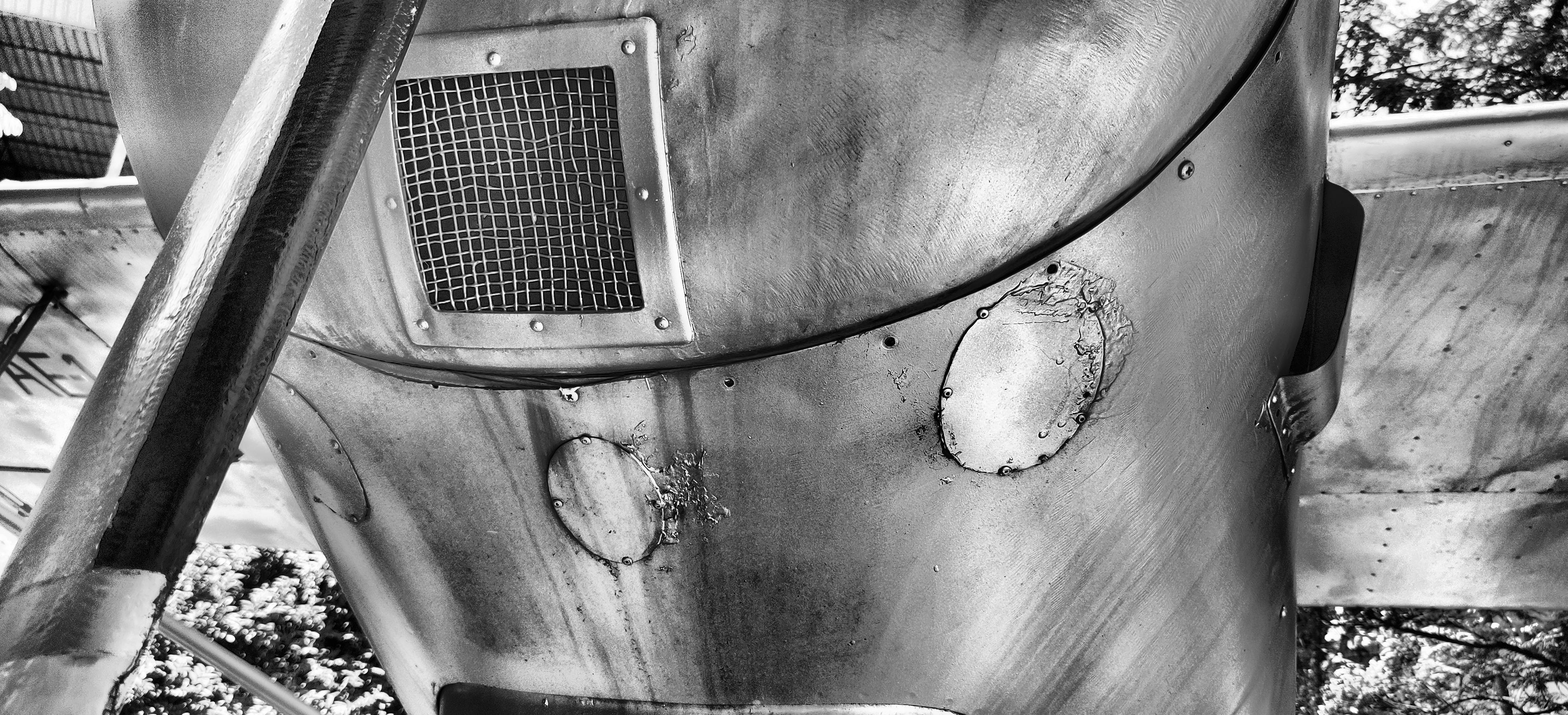missing-head: (884, 335, 897, 348), (722, 376, 736, 387), (1047, 263, 1059, 274), (1275, 51, 1282, 63), (309, 350, 318, 359), (1082, 390, 1090, 400), (1274, 409, 1282, 417), (1285, 444, 1292, 453)
paint-peel-off: (106, 436, 240, 714), (626, 420, 720, 548)
